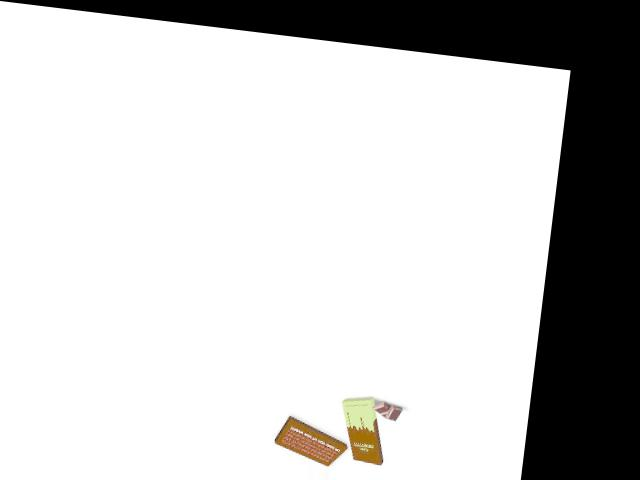chocolate: (338, 391, 386, 466)
